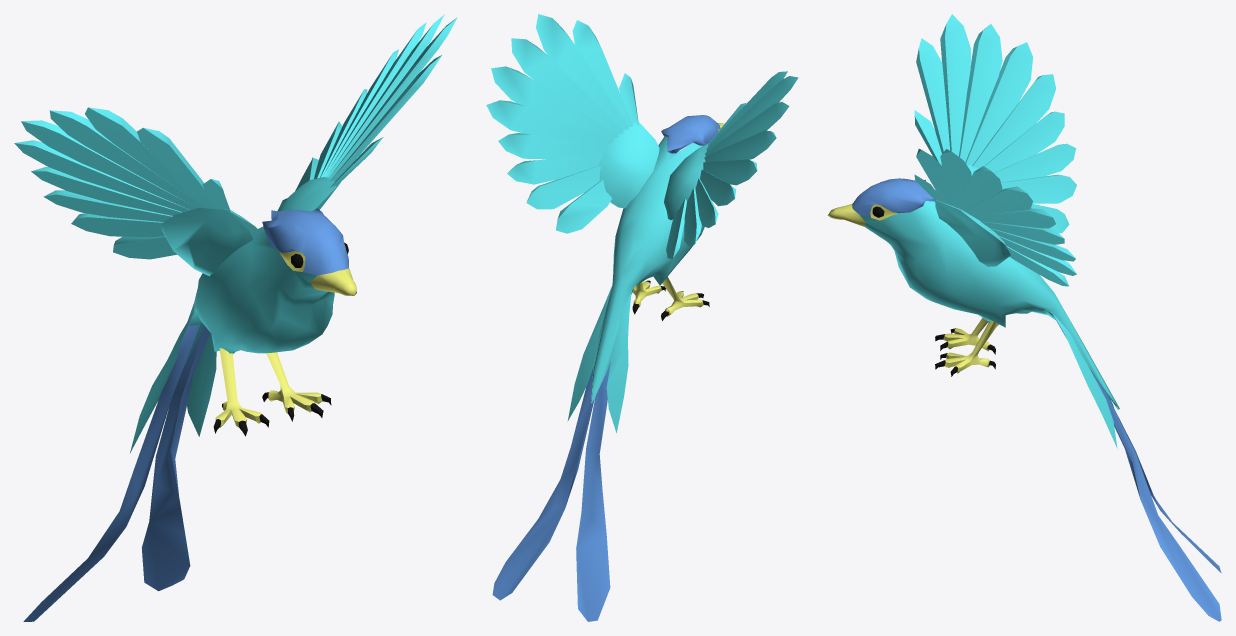
File: animals-bird-012.glb
The picture shows the model from 3 angles, left to right: view 1: azimuth 30°, elevation 25°; view 2: azimuth 150°, elevation 25°; view 3: azimuth 270°, elevation 25°; orthographic projection. The views are drawn at different scales.
Visible parts, largest first — view 1: rwing, dyellow, feather1, lwing, byellow, feather2, leg, red; view 2: lwing, feather1, rwing, dyellow, feather2, byellow, leg; view 3: rwing, dyellow, lwing, feather1, byellow, leg, feather2, red.
Part boxes in pixels (x1,y1,x2,y2): rwing: (14, 107, 260, 276); dyellow: (183, 226, 334, 368); feather1: (23, 314, 210, 621); lwing: (277, 14, 457, 211); byellow: (262, 208, 348, 275); feather2: (130, 313, 216, 452); leg: (215, 348, 322, 427); red: (279, 245, 356, 295); lwing: (486, 14, 659, 233); feather1: (492, 291, 631, 621); rwing: (664, 71, 798, 258); dyellow: (591, 136, 704, 403); feather2: (567, 286, 631, 432); byellow: (661, 115, 720, 153); leg: (632, 277, 703, 316); rwing: (914, 14, 1076, 233); dyellow: (860, 201, 1119, 409); lwing: (914, 149, 1076, 286); feather1: (1053, 315, 1221, 621); byellow: (852, 178, 936, 217); leg: (943, 318, 998, 373); feather2: (1053, 314, 1117, 448); red: (827, 203, 897, 226).
Size of the model in its own units: 398 by 631 by 438.
